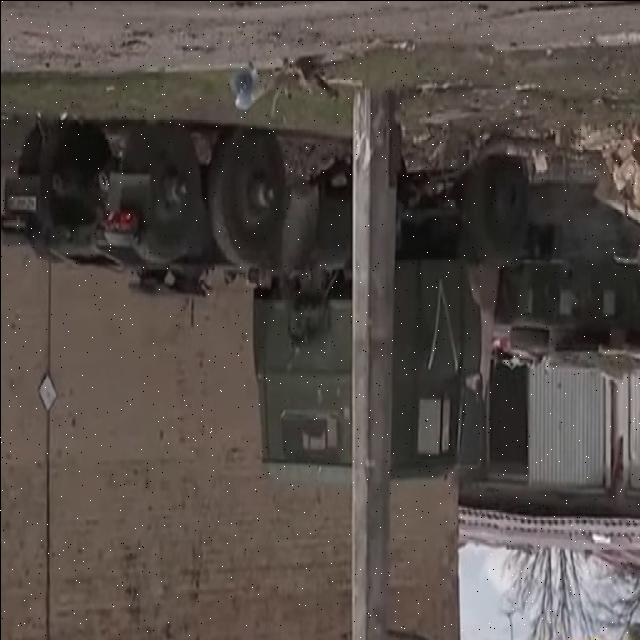TRUCK: (0, 80, 481, 507)
